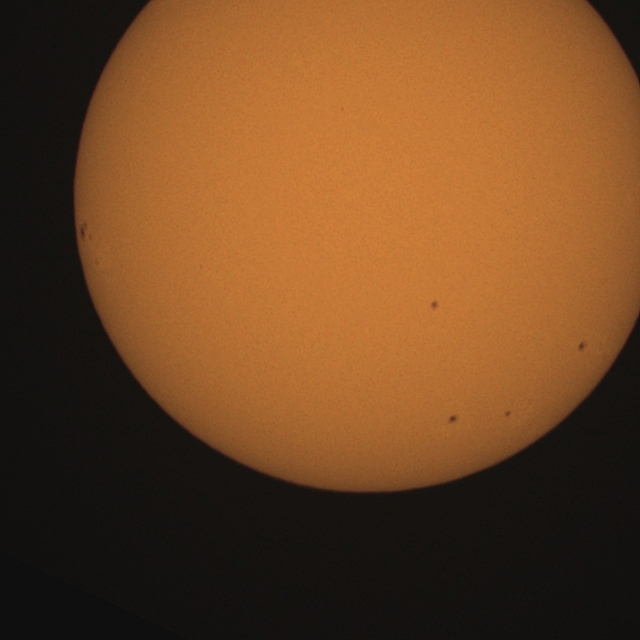sunspot: (78, 220, 94, 243), (577, 339, 589, 353), (447, 414, 458, 424), (429, 300, 439, 311), (504, 410, 512, 418)
